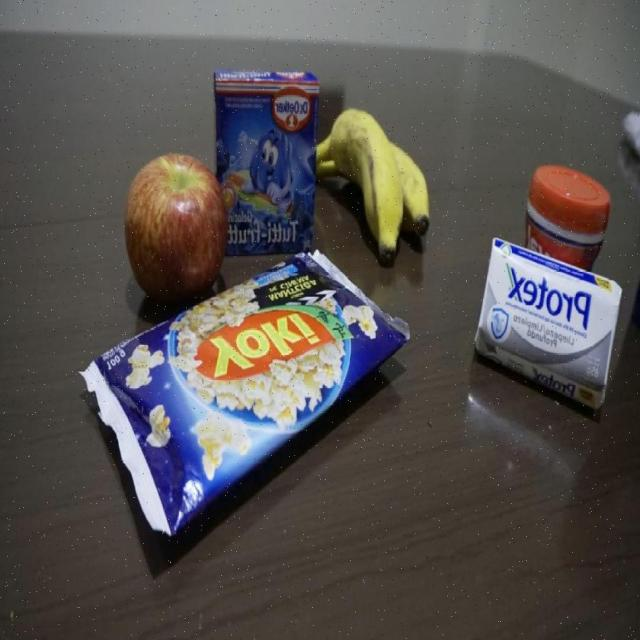Apple: (123, 152, 228, 308)
Banana: (316, 107, 432, 267)
Gelatine: (213, 70, 322, 262)
Popcorn: (76, 250, 410, 548)
Soap: (474, 236, 624, 412)
Yeast: (518, 165, 611, 267)
